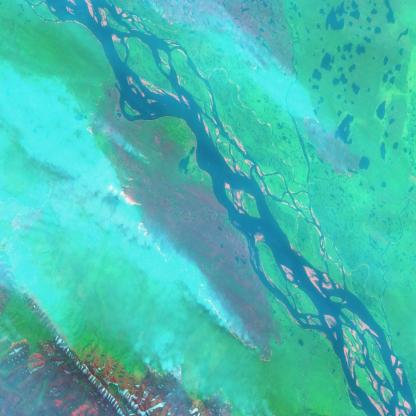fire: (108, 173, 281, 367), (143, 364, 237, 415)
